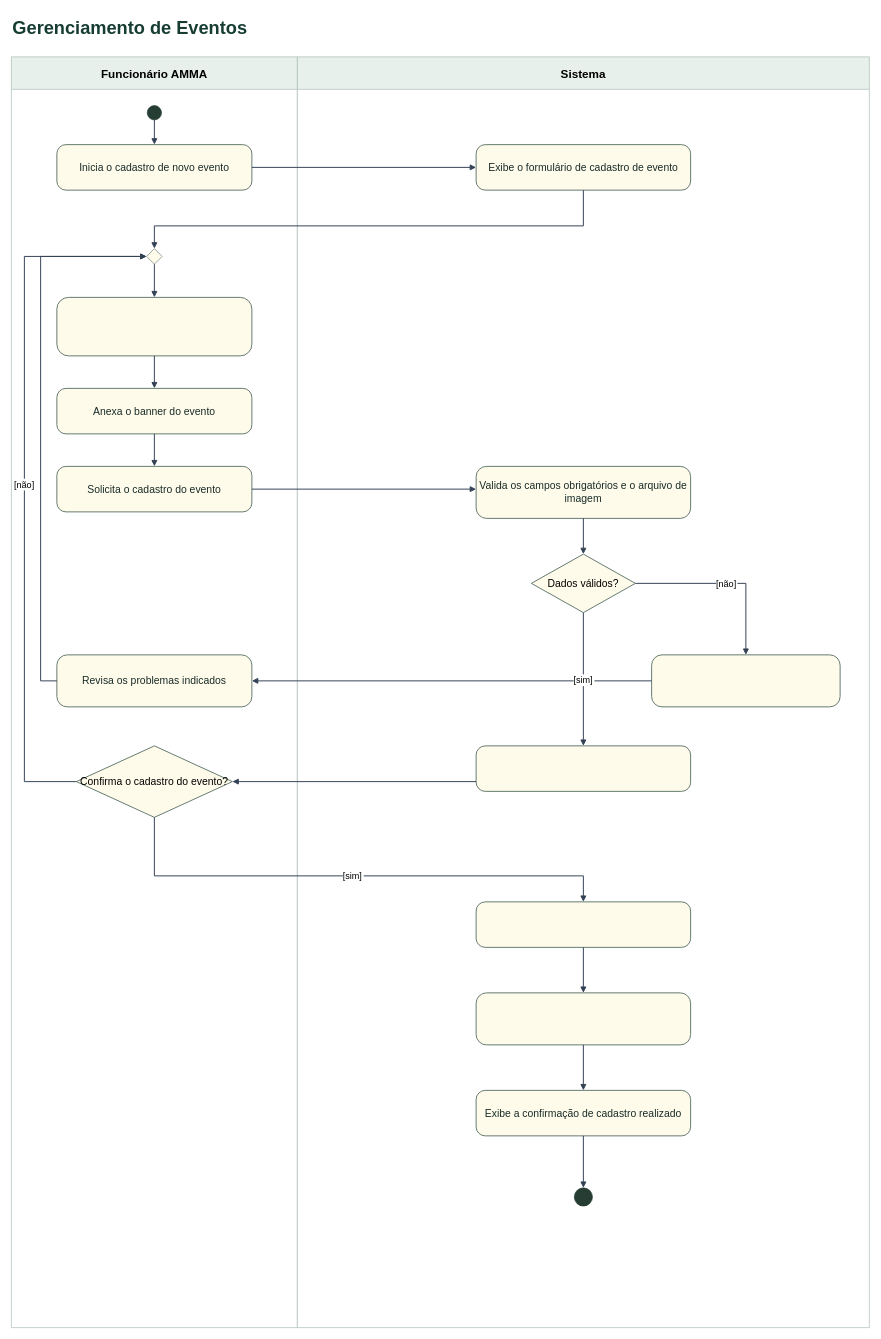
Image size: 881x1339. Some labels were removed from this diagram. The shapes that lost their labels are listed below. From the top down, each one's centre as x and y in pixels, then its label:
At (x=154, y=326): "Preenche nome, descrição, tipo, data, objetivo e local".
At (x=745, y=680): "Informa os dados ou o arquivo que precisam de correção".
At (x=583, y=768): "Apresenta a confirmação do cadastro".
At (x=583, y=924): "Registra o evento no sistema".
At (x=583, y=1018): "Atualiza a área de eventos do portal com o novo evento".
